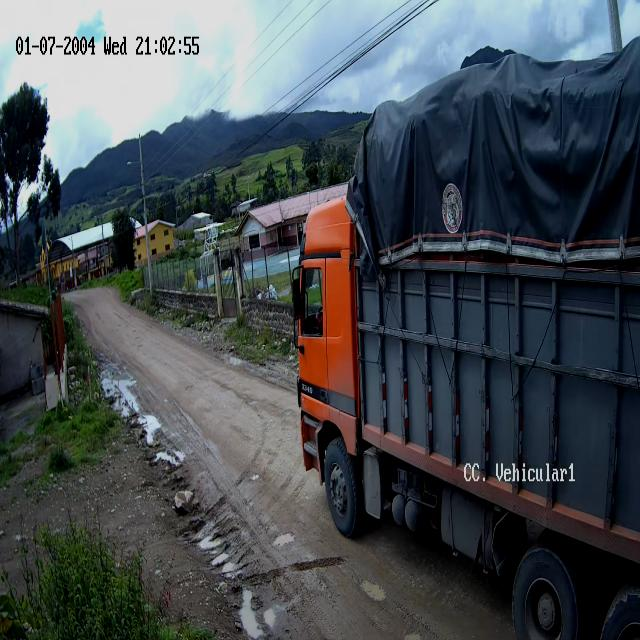TRUCK: (290, 36, 640, 640)
